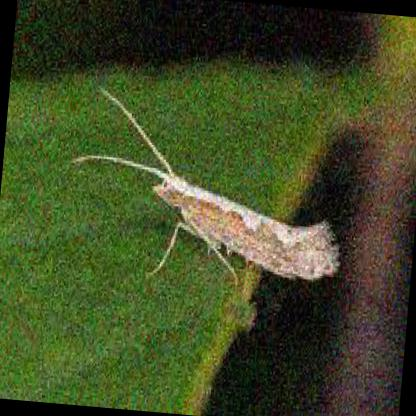plutella: (58, 79, 344, 289)
